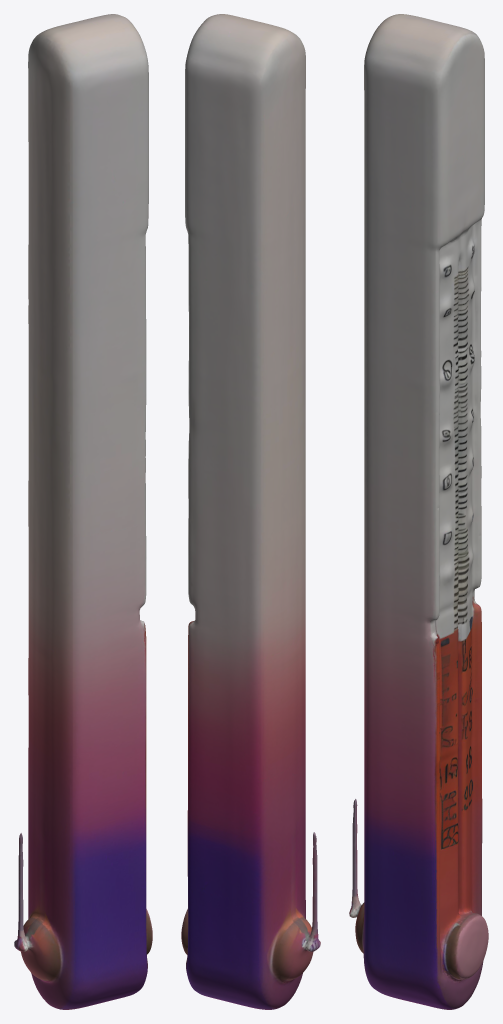
Rendered from thermometer_lab.glb.
3 renders of one model, left to right at view 1: azimuth 30°, elevation 25°; view 2: azimuth 150°, elevation 25°; view 3: azimuth 330°, elevation 25°, orthographic.
Parts seen in each view (by area): view 1: tripo_node_f3e9177e-875f-42ba-a8f4-2d9ec98c5896; view 2: tripo_node_f3e9177e-875f-42ba-a8f4-2d9ec98c5896; view 3: tripo_node_f3e9177e-875f-42ba-a8f4-2d9ec98c5896.
Part boxes in pixels (x1,y1,x2,y2): tripo_node_f3e9177e-875f-42ba-a8f4-2d9ec98c5896: [14, 14, 152, 1009]; tripo_node_f3e9177e-875f-42ba-a8f4-2d9ec98c5896: [181, 14, 320, 1009]; tripo_node_f3e9177e-875f-42ba-a8f4-2d9ec98c5896: [349, 14, 488, 1009].
Bounding box in the file's own units: 0.1262 × 0.9486 × 0.0861.
Materials: 1 (1 with a texture image).
